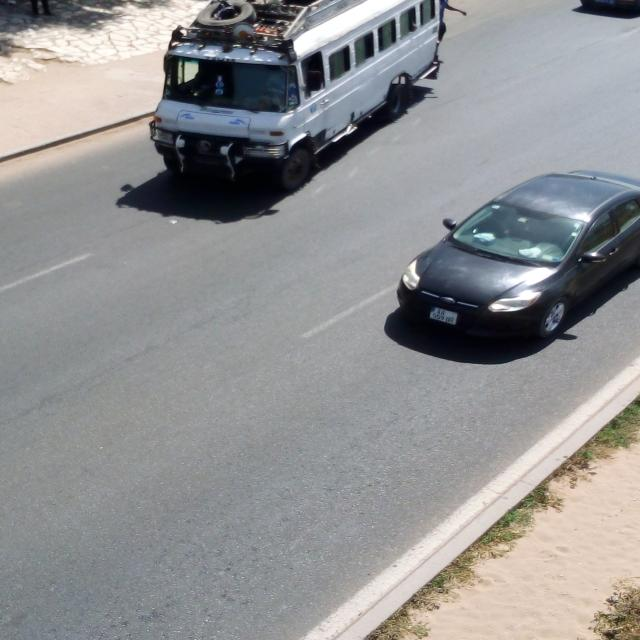ndiaga ndiaye: (151, 1, 441, 191)
particulier: (398, 172, 640, 337)
